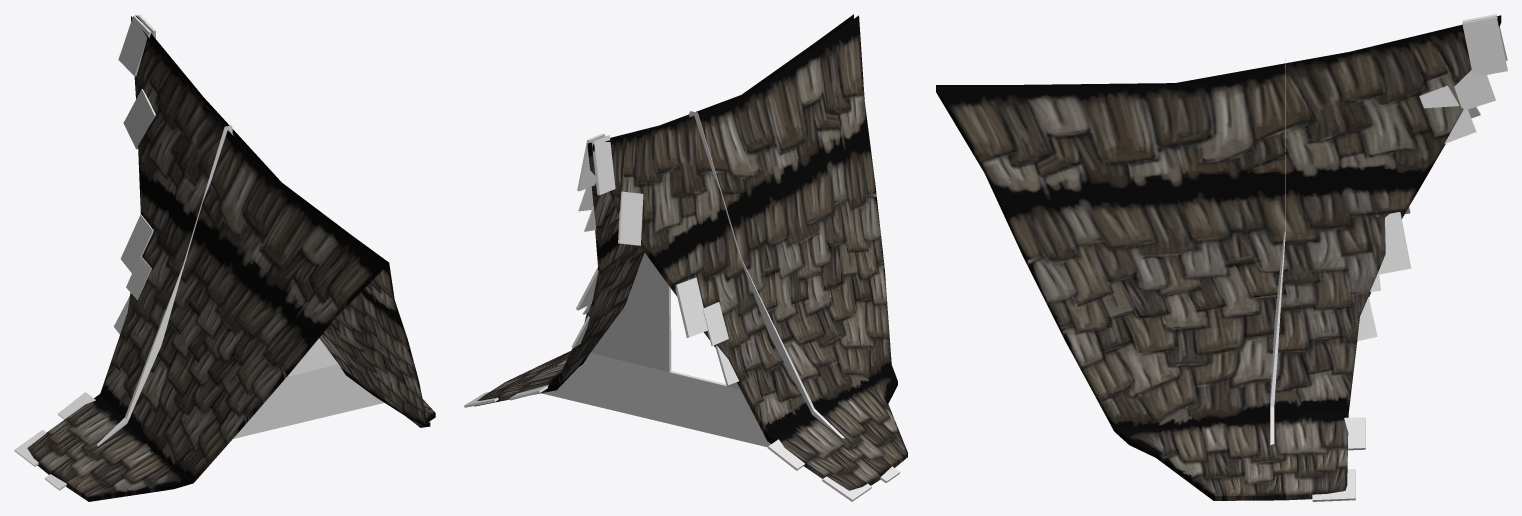
Rendered from Roof_Dormer_1.fbx.
3 views of the same model, side by side, from view 1: azimuth 30°, elevation 25°; view 2: azimuth 150°, elevation 25°; view 3: azimuth 270°, elevation 25° (orthographic). The views are drawn at different scales.
Parts seen in each view (by area): view 1: Roof_Dormer_1; view 2: Roof_Dormer_1; view 3: Roof_Dormer_1.
Part boxes in pixels (left/top/right/bottom): Roof_Dormer_1: left=14, top=14, right=435, bottom=501; Roof_Dormer_1: left=464, top=14, right=907, bottom=501; Roof_Dormer_1: left=936, top=14, right=1507, bottom=501.
Size of the model in its own units: 3.6 by 3.26 by 4.31.
